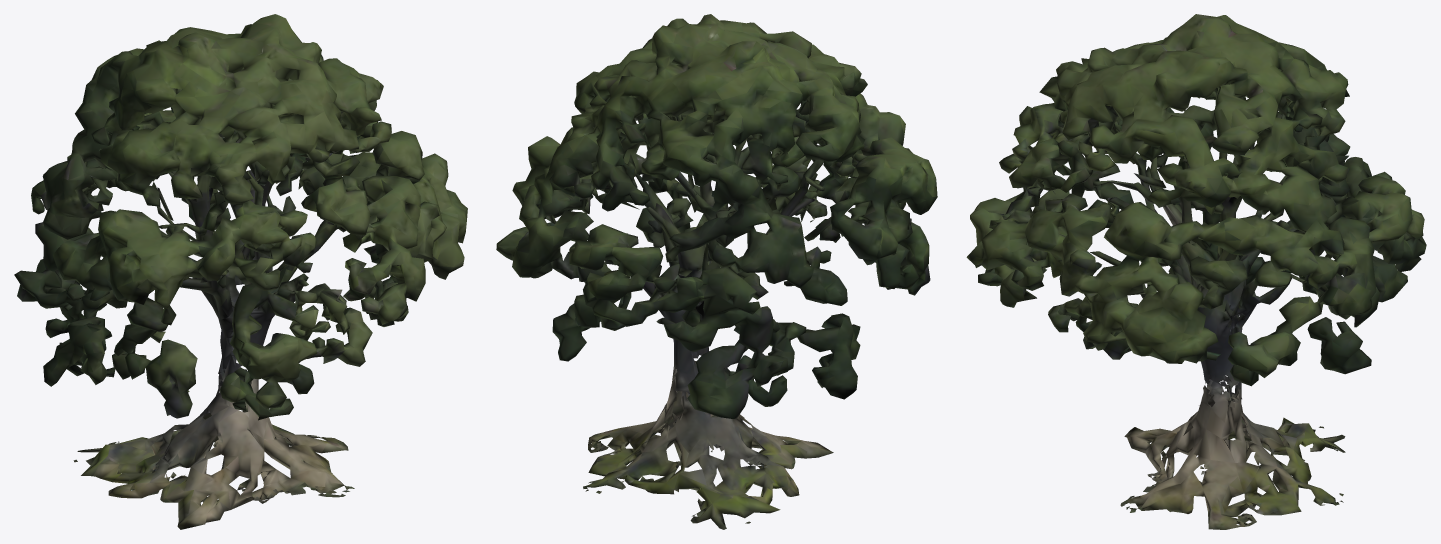
Rendered from tree-forest-meshy-B-lod5.glb.
3 renders of one model, left to right at view 1: azimuth 30°, elevation 25°; view 2: azimuth 150°, elevation 25°; view 3: azimuth 270°, elevation 25°, orthographic. The views are drawn at different scales.
Parts seen in each view (by area): view 1: Mesh_0.003; view 2: Mesh_0.003; view 3: Mesh_0.003.
Part boxes in pixels (<box>): Mesh_0.003: <box>14,14,467,529</box>; Mesh_0.003: <box>496,14,937,529</box>; Mesh_0.003: <box>966,14,1426,529</box>.
Bounding box in the file's own units: 10.8 × 11.8 × 11.03.
Materials: 1 (1 with a texture image).
